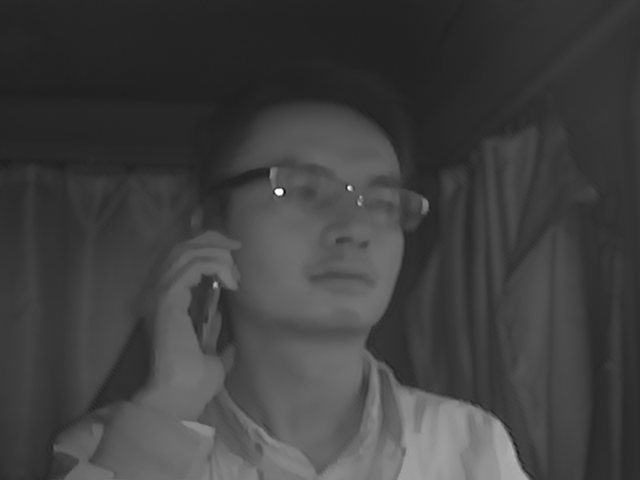hand: (138, 229, 239, 395)
